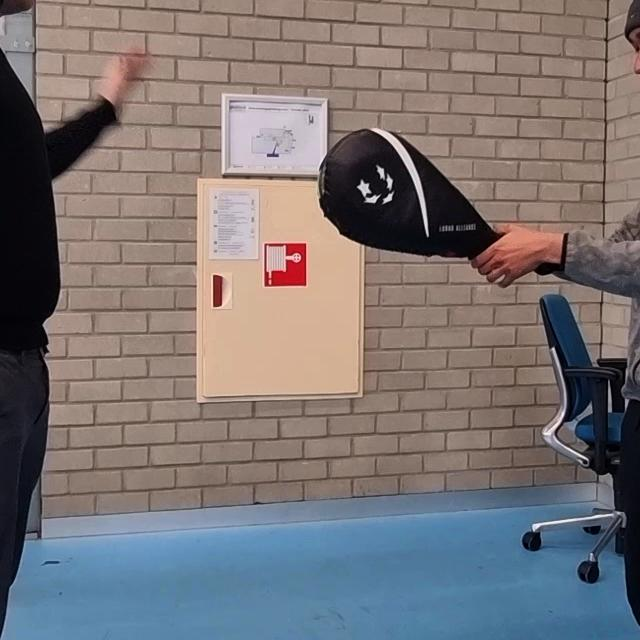paddle: (318, 130, 499, 259)
